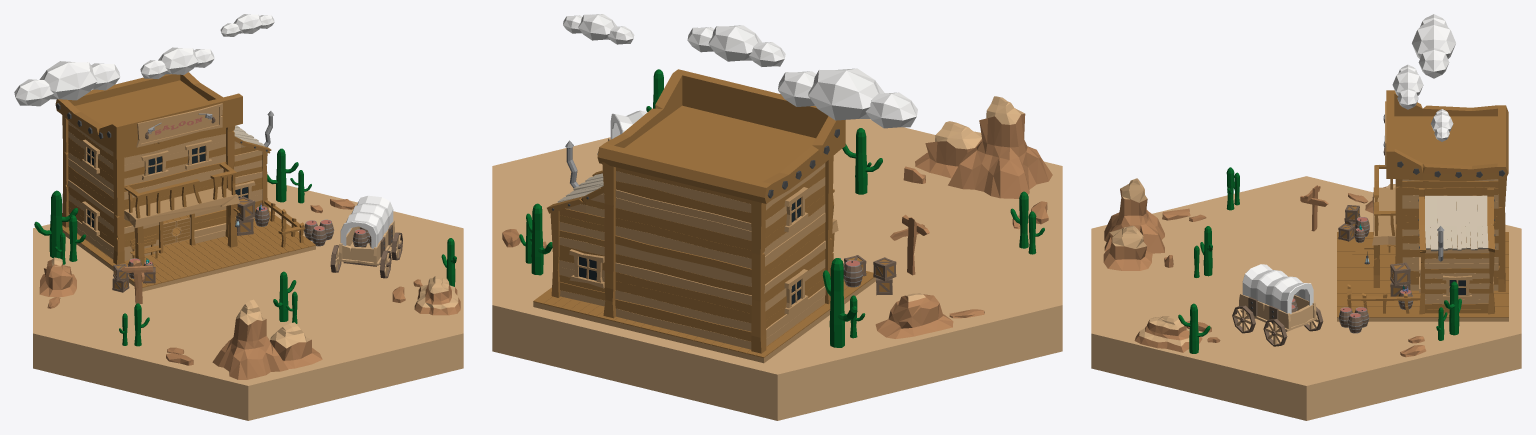
File: Tile_1.fbx
3 views of the same model, side by side, from view 1: azimuth 30°, elevation 25°; view 2: azimuth 150°, elevation 25°; view 3: azimuth 270°, elevation 25° (orthographic). The views are drawn at different scales.
Visible parts, largest first — view 1: Tile_1_Base, Tile_1_Saloon, Tile_1, Tile_1_Platform, Tile_1_Cart, Tile_1_signboard, Tile_1_Signpost; view 2: Tile_1_Base, Tile_1_Saloon, Tile_1, Tile_1_Platform, Tile_1_Signpost, Tile_1_Cart; view 3: Tile_1_Base, Tile_1_Saloon, Tile_1, Tile_1_Platform, Tile_1_Cart, Tile_1_Signpost.
Boxes of the visible parts, x1,y1,x2,y2 form: Tile_1_Base: [33, 182, 463, 420]; Tile_1_Saloon: [55, 72, 305, 265]; Tile_1: [14, 14, 460, 379]; Tile_1_Platform: [62, 210, 315, 291]; Tile_1_Cart: [330, 195, 402, 278]; Tile_1_signboard: [136, 103, 222, 147]; Tile_1_Signpost: [121, 260, 153, 303]; Tile_1_Base: [492, 119, 1062, 420]; Tile_1_Saloon: [547, 69, 845, 353]; Tile_1: [502, 14, 1052, 347]; Tile_1_Platform: [533, 271, 875, 363]; Tile_1_Signpost: [890, 214, 929, 275]; Tile_1_Cart: [608, 110, 647, 140]; Tile_1_Base: [1091, 176, 1521, 420]; Tile_1_Saloon: [1347, 90, 1508, 314]; Tile_1: [1103, 14, 1461, 357]; Tile_1_Platform: [1337, 232, 1508, 321]; Tile_1_Cart: [1232, 264, 1323, 346]; Tile_1_Signpost: [1300, 185, 1328, 231].
Size of the model in its own units: 2318 by 2007 by 1208.
